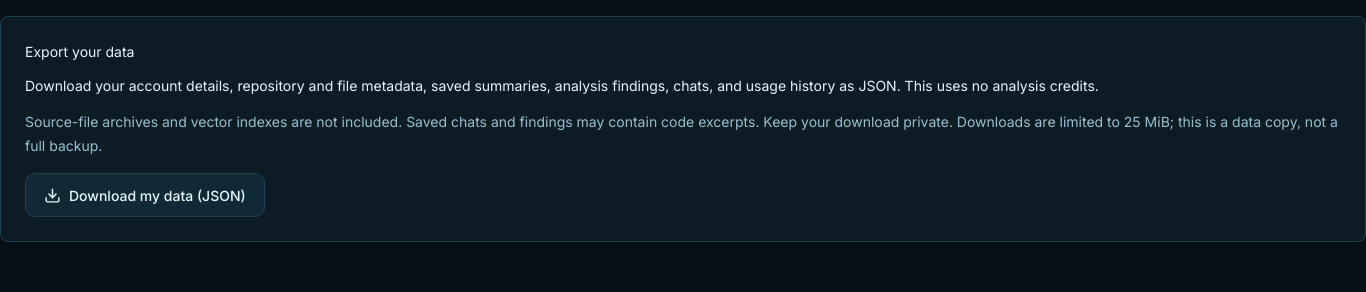
Test case: downloads the real response only after completion and prevents duplicate requests
This screenshot has width=1366, height=292.
Click the button "Download my data (JSON)": (145, 195) [25,173,265,217]
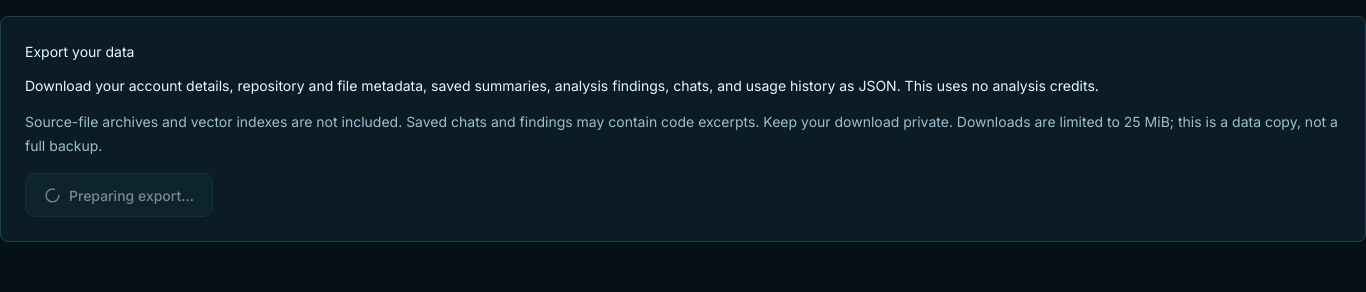
Check: the button "Preparing export..." is disabled
Click the button "Preparing export...": (119, 195) [25,173,213,217]
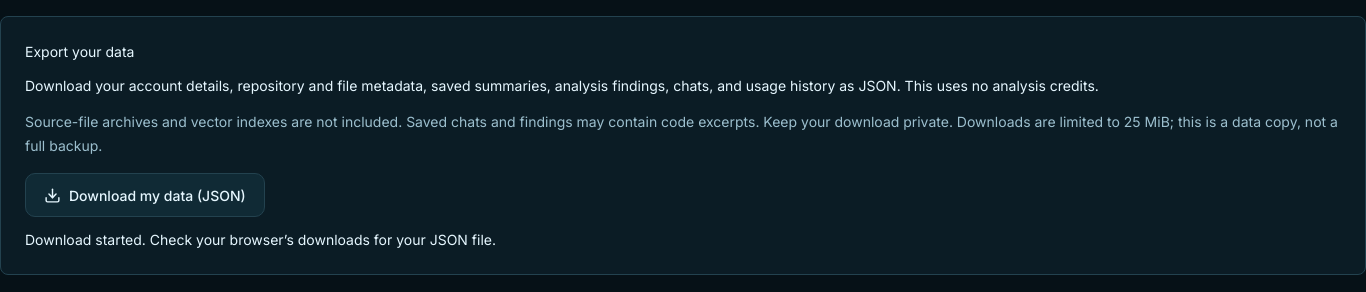
Check: the message shows "Download started", box [25,231,496,248]
